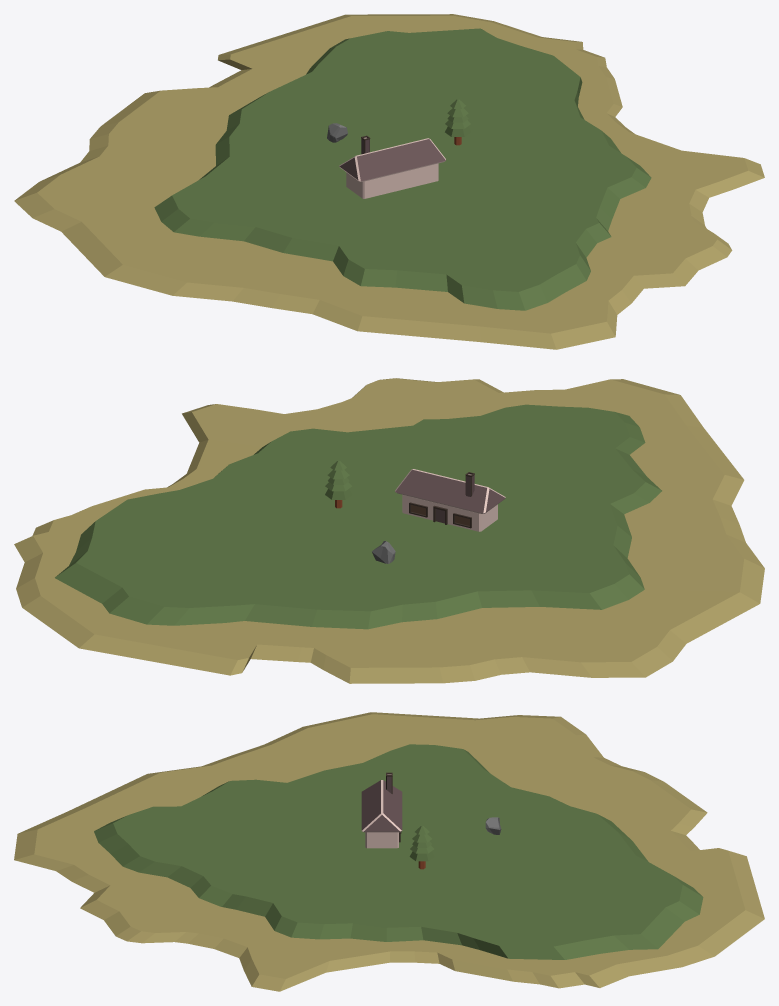
File: SM_Island.fbx
The picture shows the model from 3 angles, top to bottom: view 1: azimuth 30°, elevation 25°; view 2: azimuth 150°, elevation 25°; view 3: azimuth 270°, elevation 25°; orthographic projection. The views are drawn at different scales.
Parts seen in each view (by area): view 1: island, Cube, Cylinder; view 2: island, Cube, Cylinder; view 3: island, Cube, Cylinder.
Part boxes in pixels (<box>): island: <box>14,14,764,349</box>; Cube: <box>339,135,445,198</box>; Cylinder: <box>445,99,470,145</box>; island: <box>14,378,764,683</box>; Cube: <box>395,469,505,531</box>; Cylinder: <box>325,460,352,508</box>; island: <box>14,712,764,991</box>; Cube: <box>361,772,402,848</box>; Cylinder: <box>409,825,434,869</box>.
Size of the model in its own units: 2622 by 274 by 2976.
